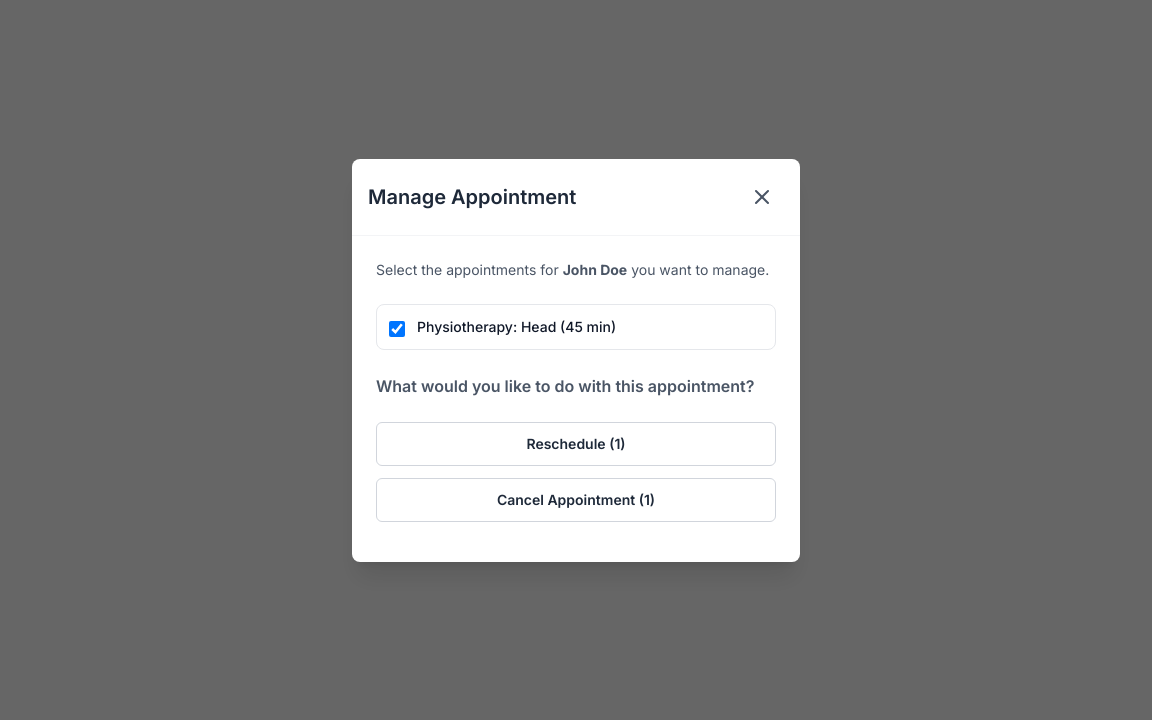
Scenario: ManageAppointmentsModal › should require cancellation reason when cancel all is checked
Click the button "Cancel Appointment (1)".
click(576, 500)  # box [376, 478, 776, 522]
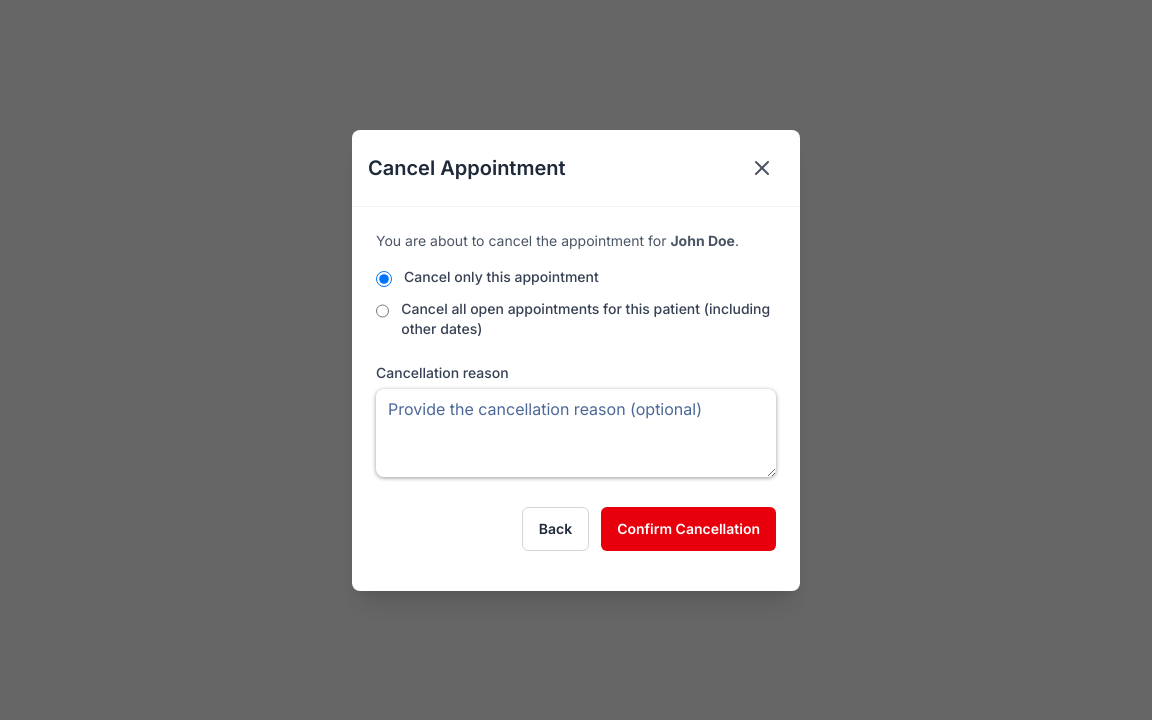
Click the radio button labelled "Cancel all open appointments for this patient".
click(383, 310)  # box [376, 302, 389, 318]
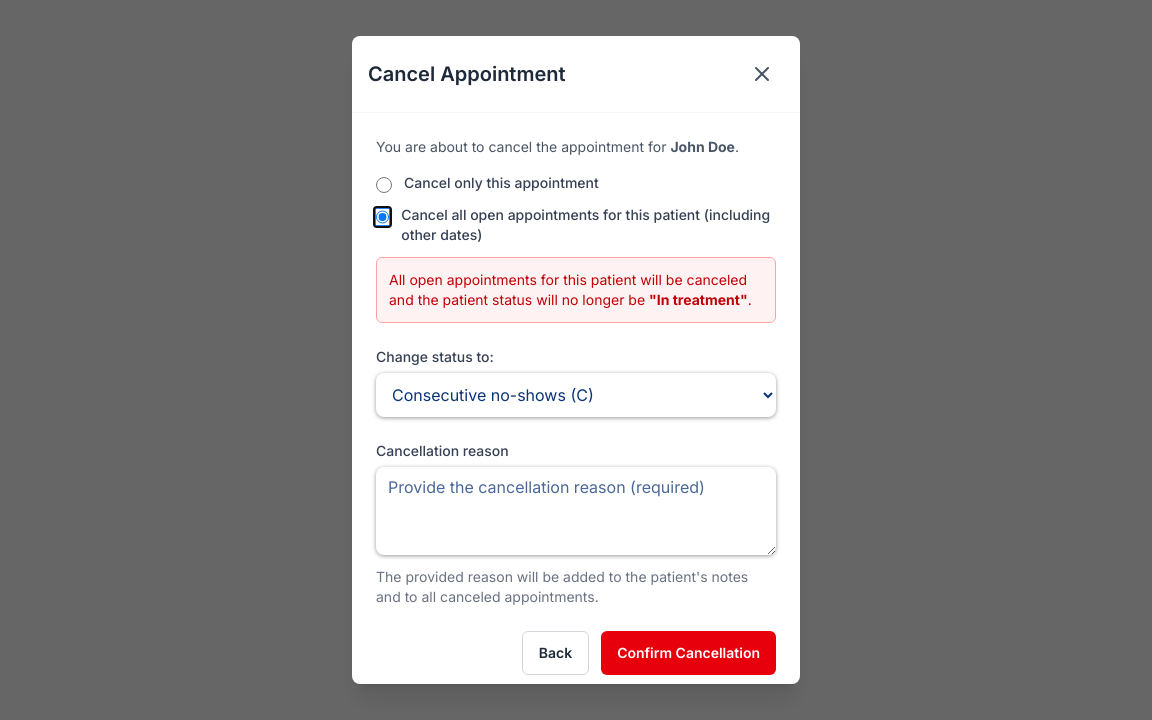
Click the button "Confirm Cancellation".
click(689, 653)  # box [601, 631, 776, 675]
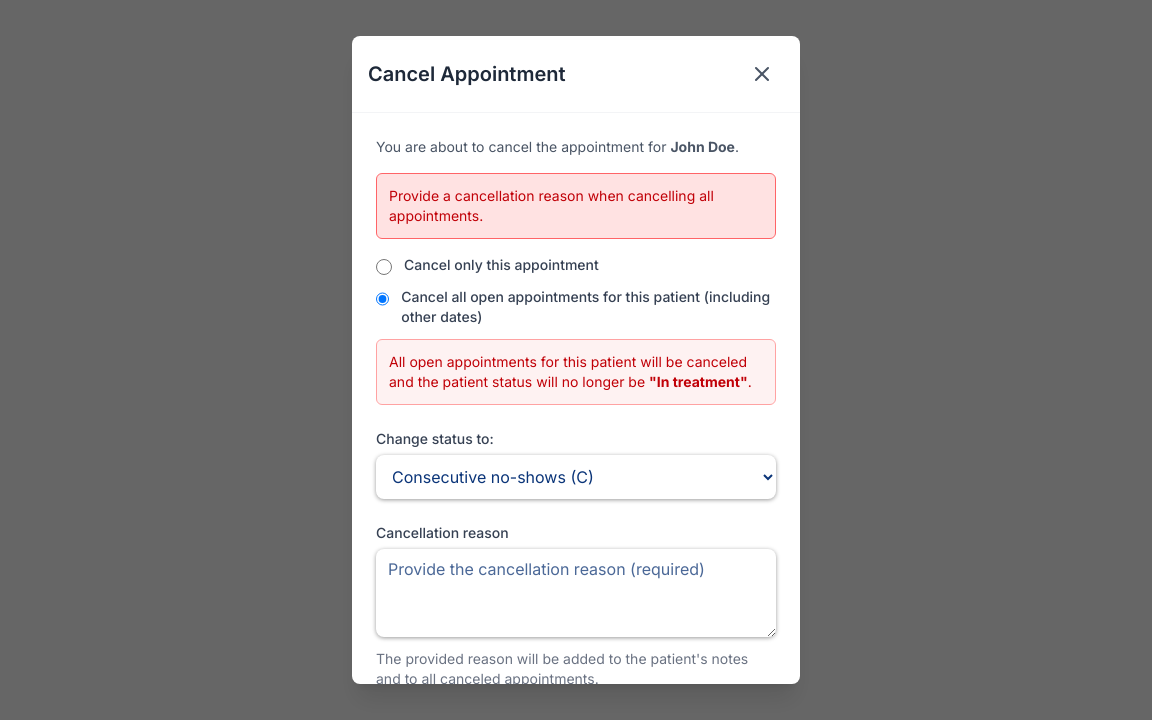
Check: the text "Provide a cancellation reason when cancelling all appointments" is shown, box [389, 187, 714, 224]
